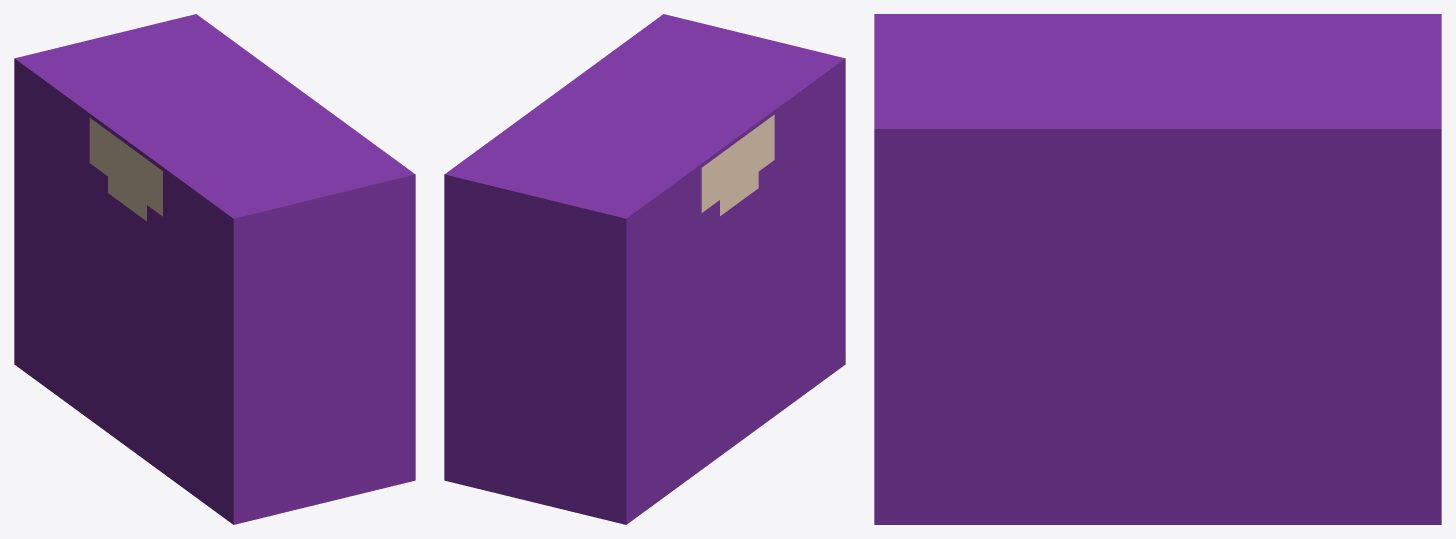
Rendered from noobGirl-0.obj.
The picture shows the model from 3 angles, left to right: view 1: azimuth 30°, elevation 25°; view 2: azimuth 150°, elevation 25°; view 3: azimuth 270°, elevation 25°; orthographic projection. The views are drawn at different scales.
Bounding box in the file's own units: 4.6 × 7.4 × 9.6.
Materials: 1 (1 with a texture image).
